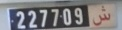0: (62, 7, 72, 26)
2: (15, 10, 26, 29), (28, 10, 37, 29)
7: (51, 8, 61, 27), (39, 9, 48, 28)
9: (74, 5, 83, 25)
ch: (90, 4, 112, 27)
